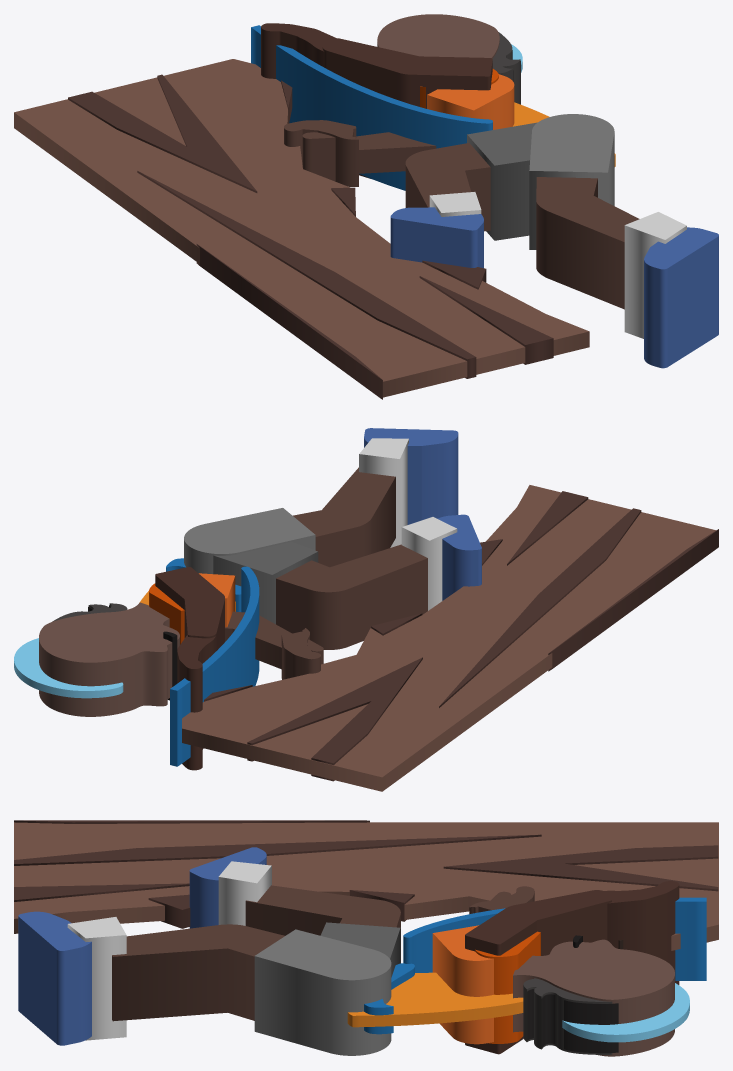
Rendered from emoji_u1f9d7_1f3ff.glb.
3 renders of one model, top to bottom at view 1: azimuth 30°, elevation 25°; view 2: azimuth 150°, elevation 25°; view 3: azimuth 270°, elevation 25°, orthographic. The views are drawn at different scales.
Visible parts, largest first — view 1: emoji_u1f9d7_1f3ff; view 2: emoji_u1f9d7_1f3ff; view 3: emoji_u1f9d7_1f3ff.
Boxes of the visible parts, x1,y1,x2,y2 form: emoji_u1f9d7_1f3ff: (14,14,718,399); emoji_u1f9d7_1f3ff: (14,428,718,791); emoji_u1f9d7_1f3ff: (14,820,718,1056).
Size of the model in its own units: 0.0237 by 0.0058 by 0.0338.
